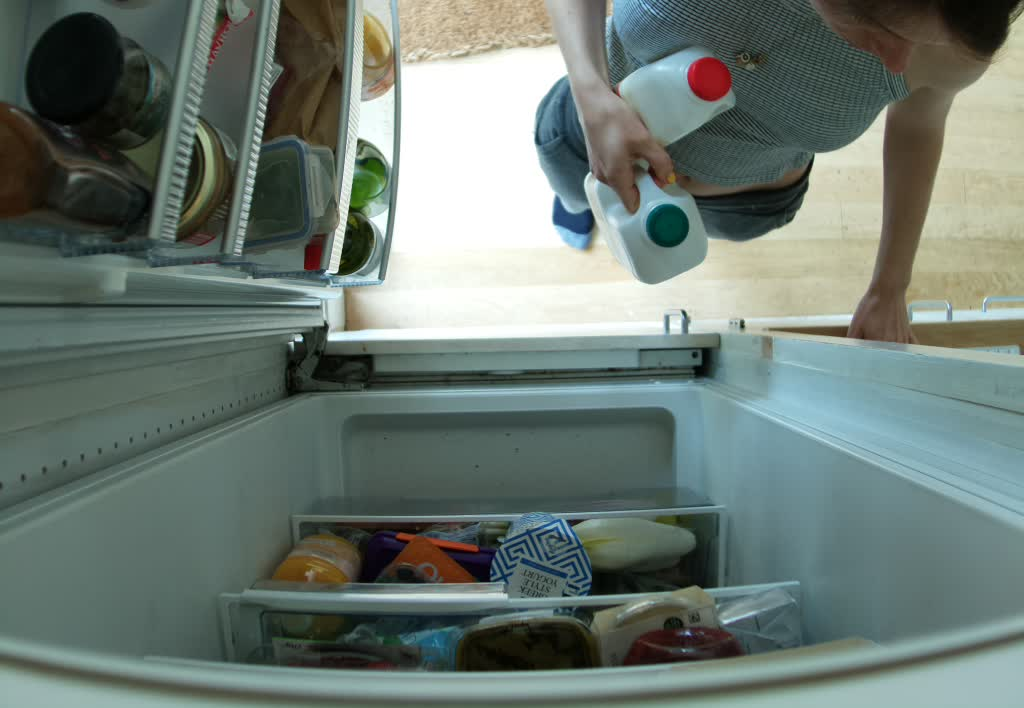milk: (580, 164, 712, 282), (619, 45, 740, 145)
